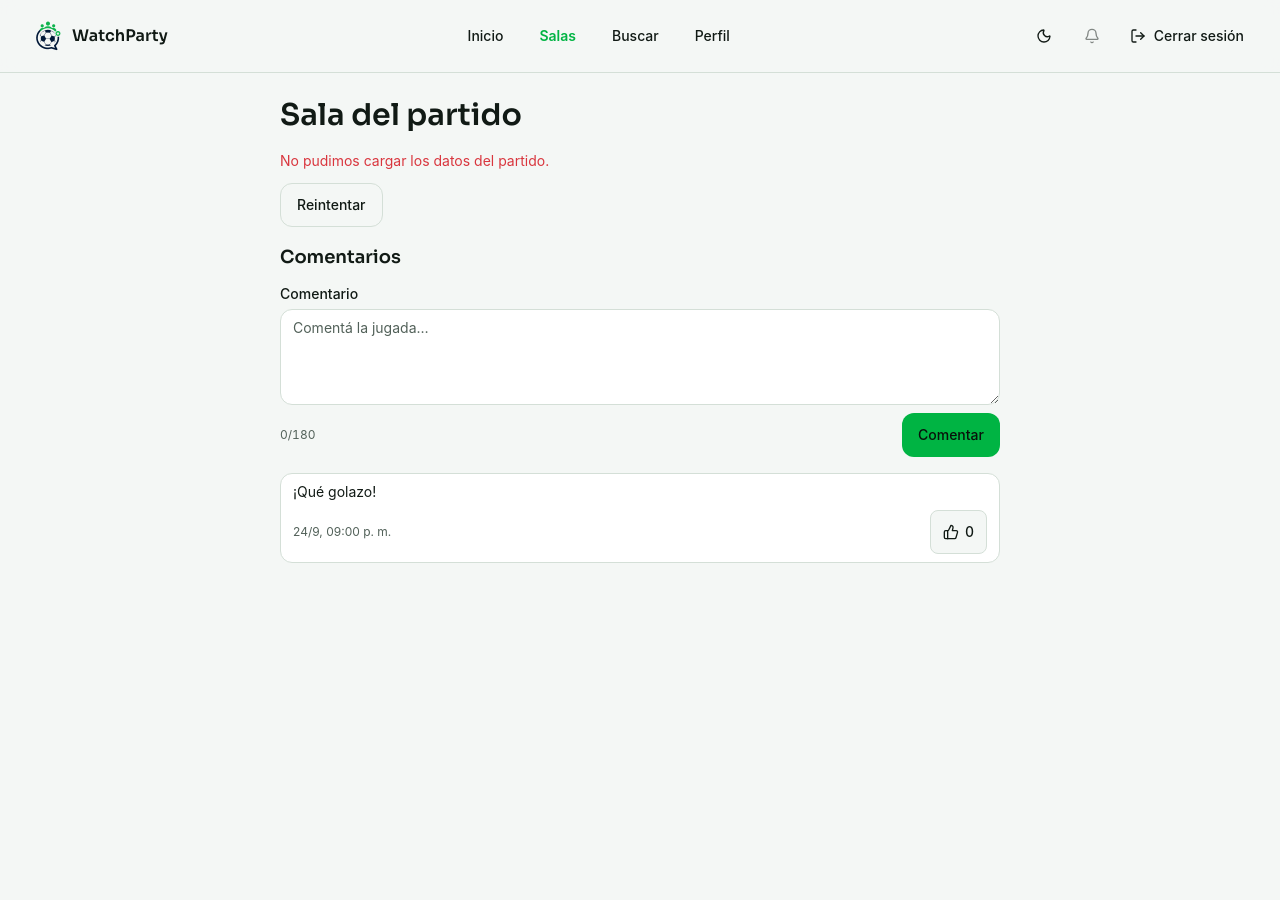
Test: Sala: encabezado del partido › el reintento vuelve a pedir sólo el partido y conserva el borrador y los comentarios
Expected: the message "No pudimos cargar los datos del partido. Reintentar" is shown, [280,152,549,226]
Type "Borrador sin enviar" into the text box labelled "Comentario" at x=640, y=356, box [280,308,1000,404]
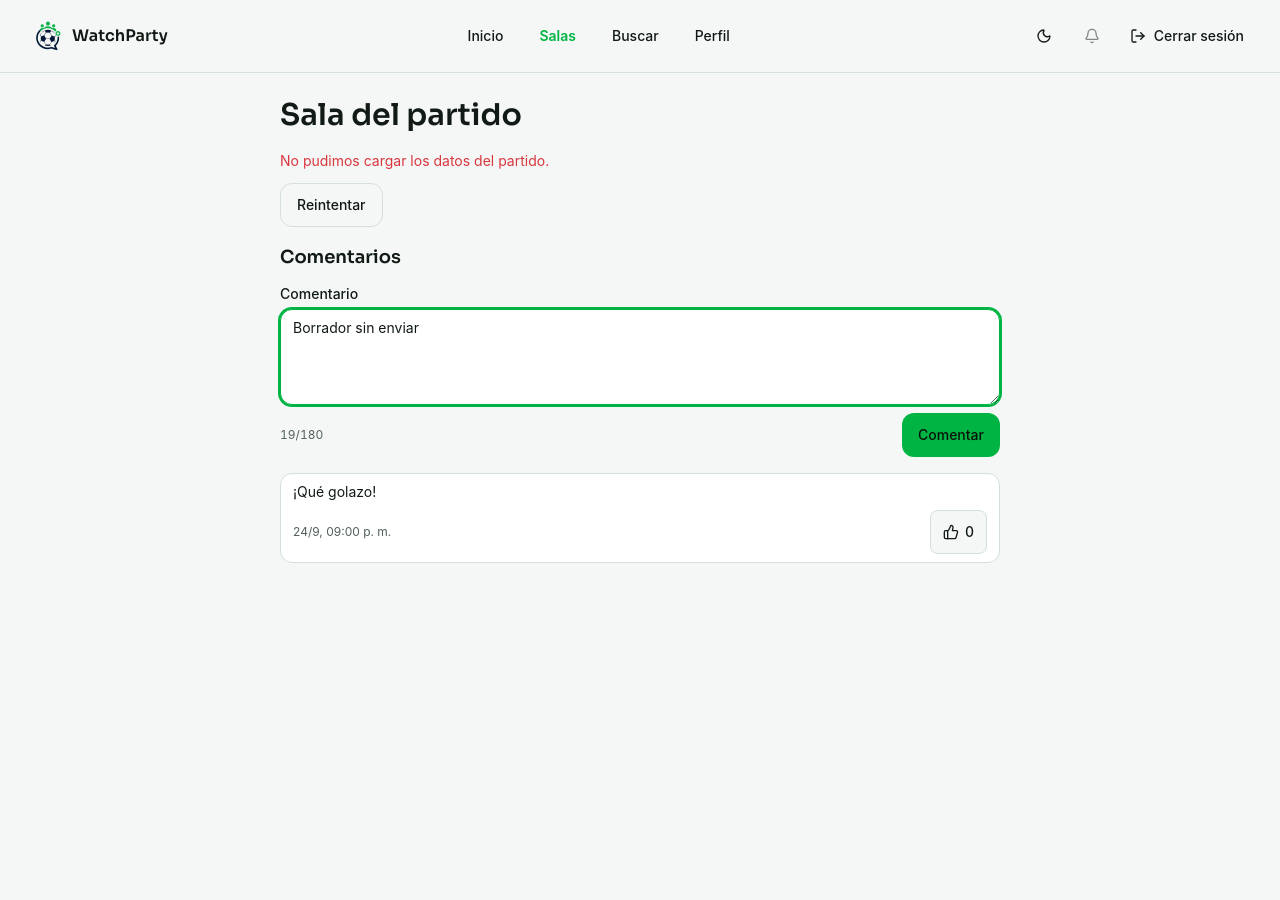
Click the button with aria-label "Reintentar la carga del partido" at x=331, y=204, box [280,182,382,226]
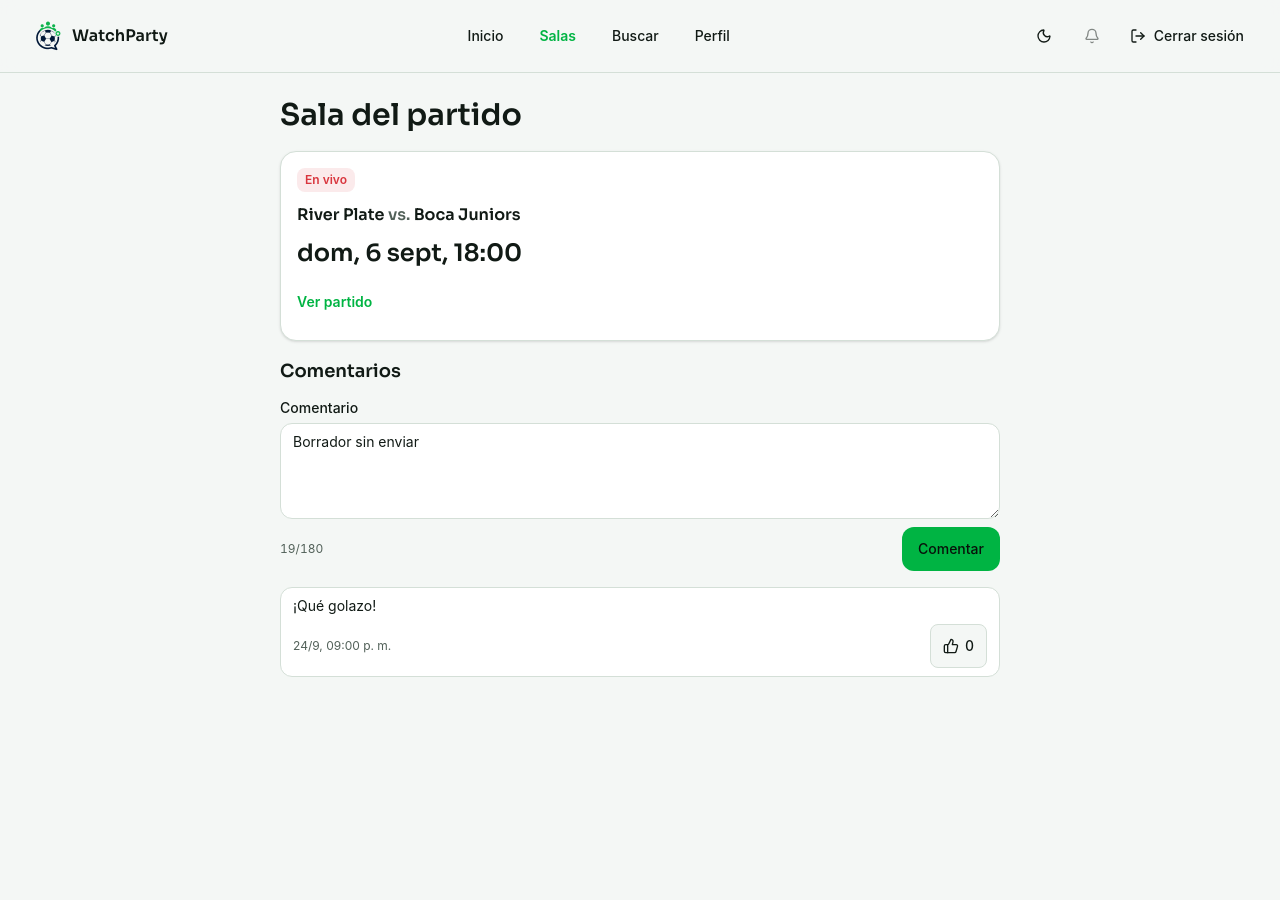
Expected: the text "¡Qué golazo!" is shown, [293,596,376,614]
Expected: the heading "River Plate vs. Boca Juniors" is shown, [297,204,520,224]
Expected: the message "No pudimos cargar los datos del partido. Reintentar" is gone
